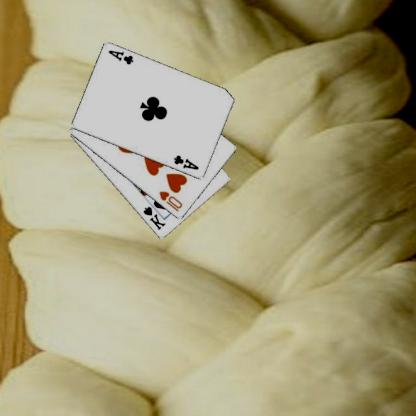10H: (158, 189, 186, 213)
AC: (173, 152, 202, 172), (108, 48, 136, 66)
KS: (142, 203, 168, 232)
